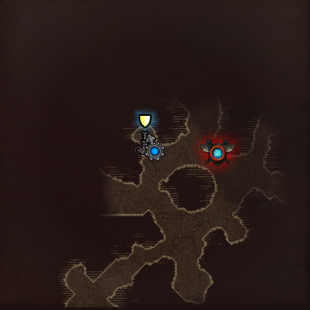ShieldPylon: (135, 111, 155, 155)
